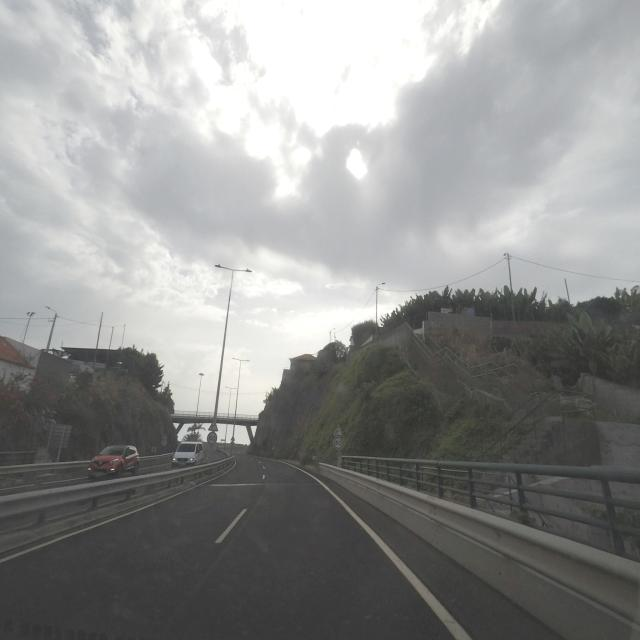car: (88, 444, 140, 482), (170, 440, 205, 470)
